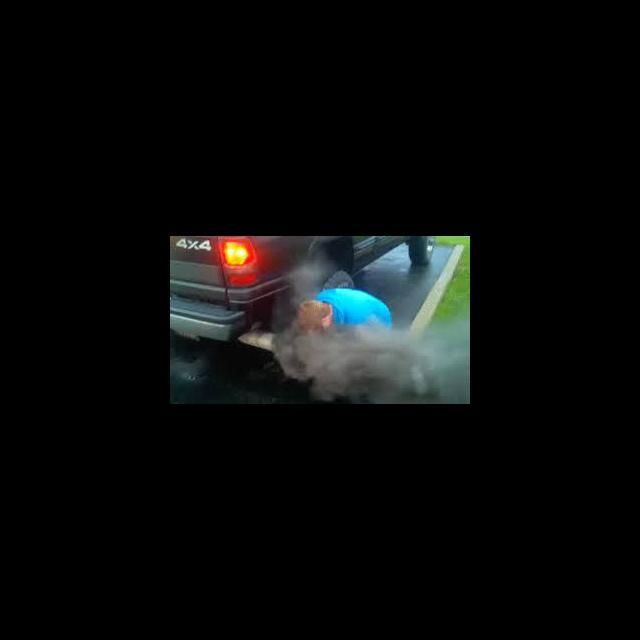Smoke: (272, 320, 469, 403)
